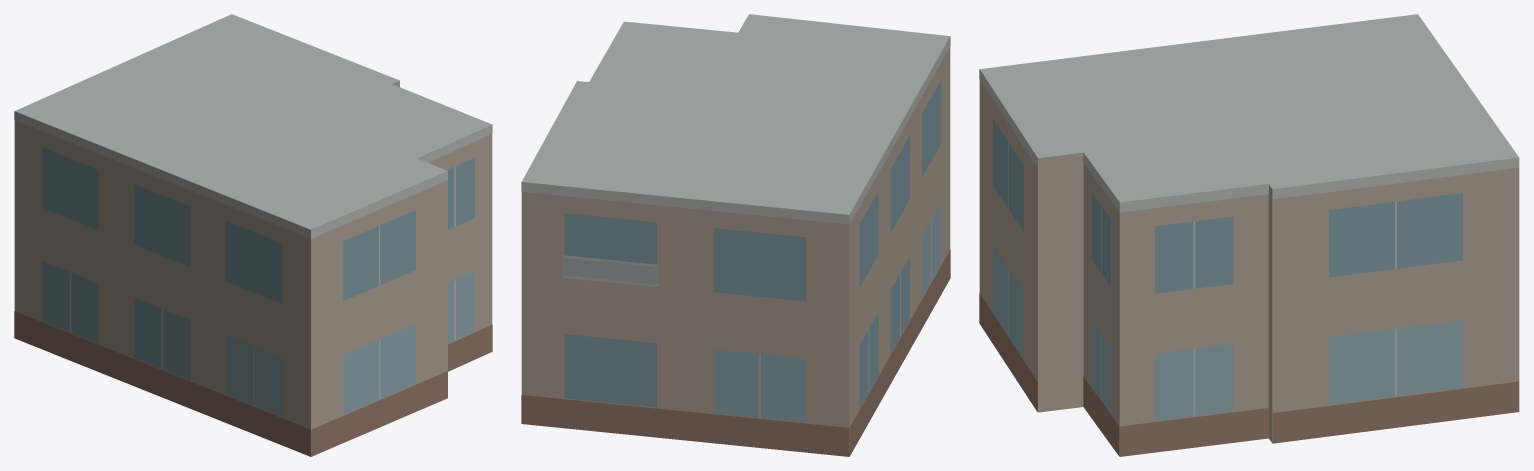
The model's file is survey-upis-32688367.glb.
The picture shows the model from 3 angles, left to right: view 1: azimuth 30°, elevation 25°; view 2: azimuth 150°, elevation 25°; view 3: azimuth 270°, elevation 25°; orthographic projection. The views are drawn at different scales.
Parts seen in each view (by area): view 1: survey-upis-32688367.tmp; view 2: survey-upis-32688367.tmp; view 3: survey-upis-32688367.tmp.
Part boxes in pixels (x1,y1,x2,y2): survey-upis-32688367.tmp: (14, 14, 492, 456); survey-upis-32688367.tmp: (521, 14, 950, 456); survey-upis-32688367.tmp: (979, 14, 1519, 456).
Bounding box in the file's own units: 9.7 × 6.1 × 11.74.
